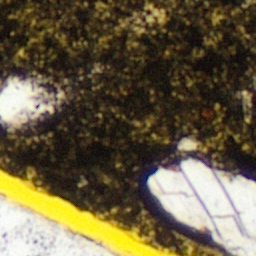cement_matrix: (0, 0, 255, 255), (179, 138, 198, 153), (150, 10, 162, 20)
cracks: (0, 167, 196, 255)
gravel_crushed_stones: (152, 162, 255, 255), (0, 195, 121, 255), (0, 77, 58, 128), (180, 139, 197, 152), (151, 11, 161, 19)
